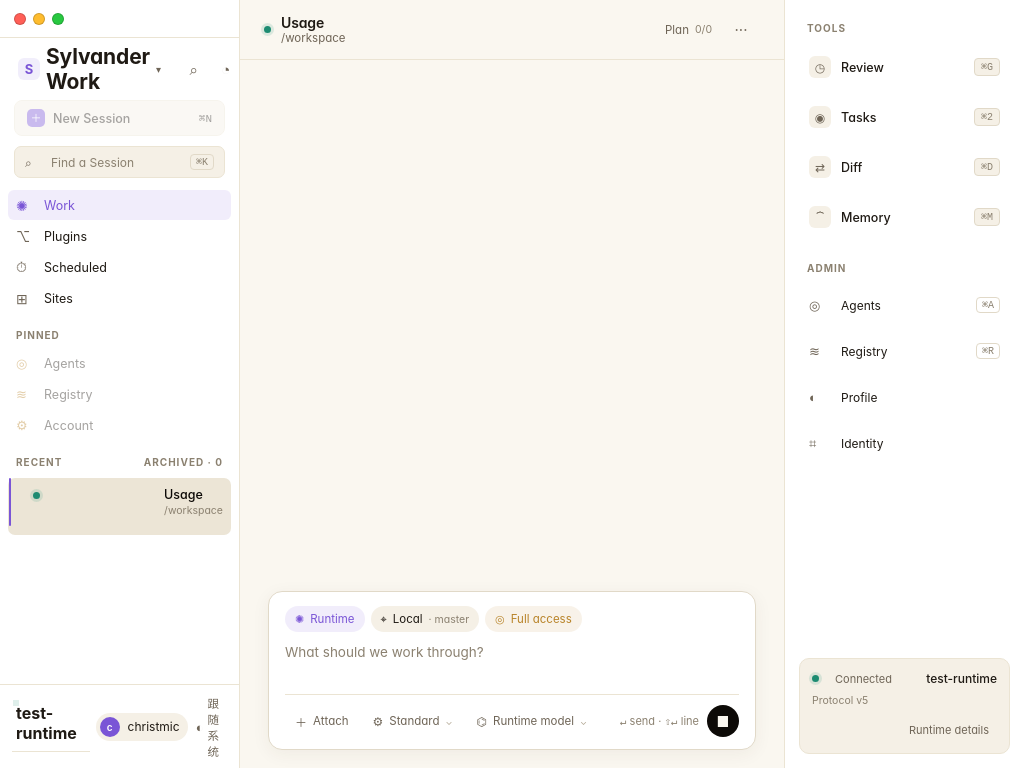
Test: Sylvander Work › uses Runtime turn identity as the sole start fact and projects usage
Expected: the button named "Stop" is shown, [707, 705, 739, 737]
Click the button "Plan 0/0" at coordinates (688, 30), box [655, 16, 722, 44]
(page scrolled)
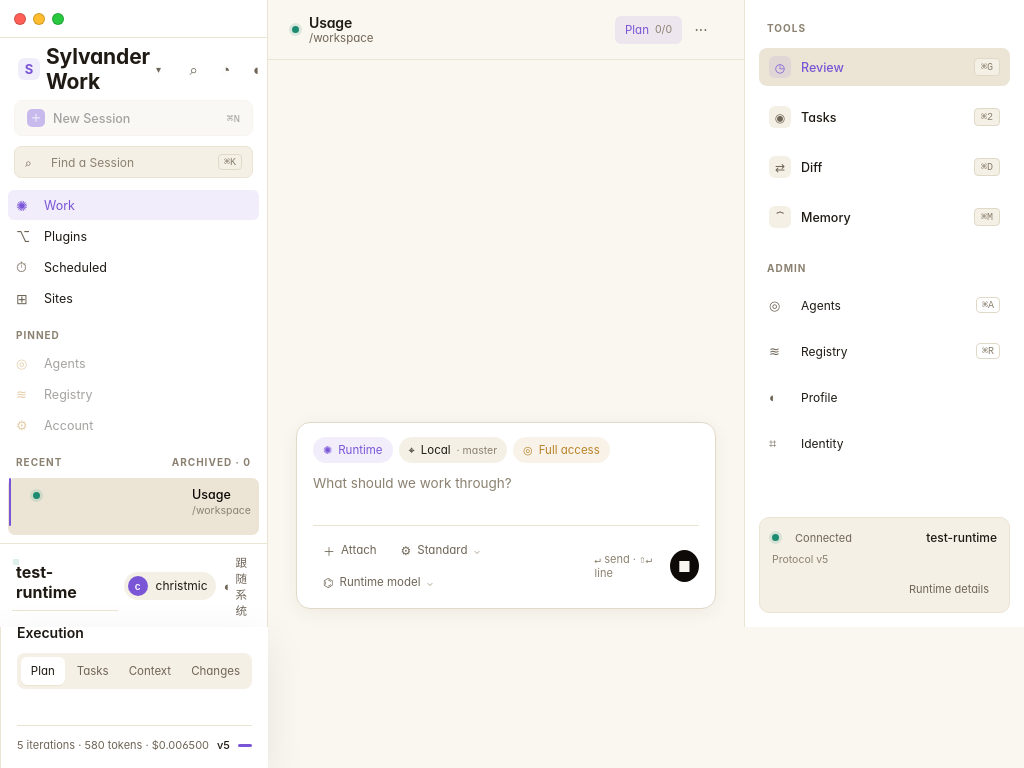
Expected: the text "5 iterations · 580 tokens · $0.006500" is shown, [17, 738, 209, 752]
